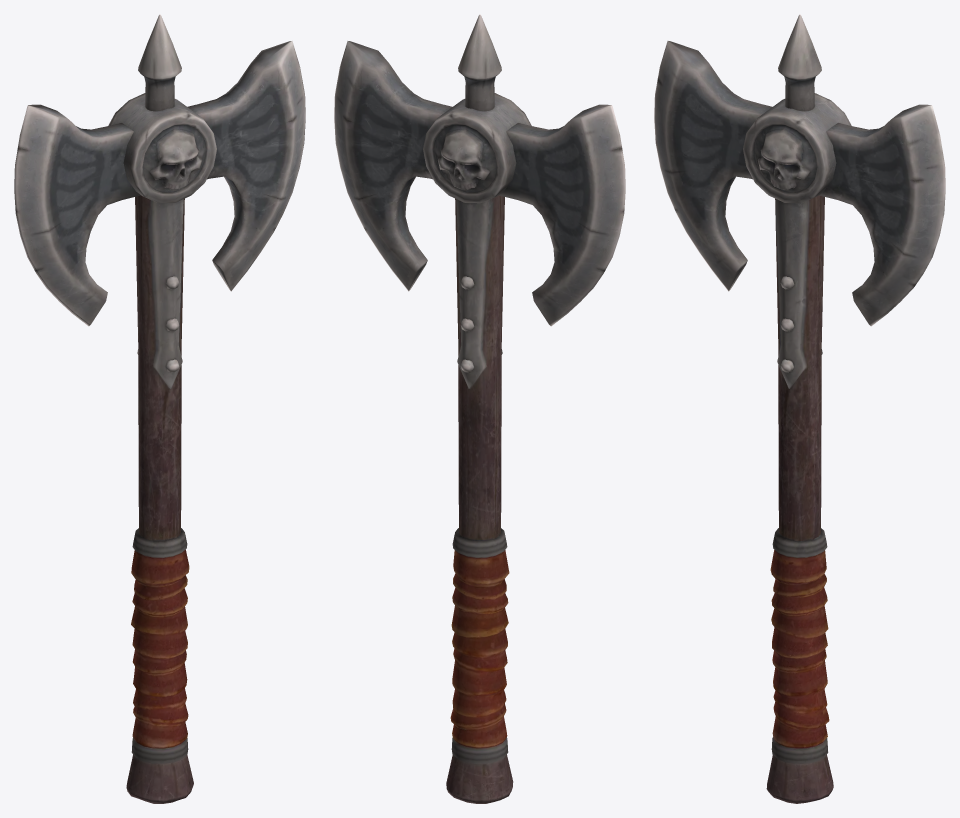
3 renders of one model, left to right at view 1: azimuth 30°, elevation 25°; view 2: azimuth 150°, elevation 25°; view 3: azimuth 330°, elevation 25°, orthographic.
Parts seen in each view (by area): view 1: SM_Club_UnbrokenZombieAxe_1H_01_LOD0; view 2: SM_Club_UnbrokenZombieAxe_1H_01_LOD0; view 3: SM_Club_UnbrokenZombieAxe_1H_01_LOD0.
Part boxes in pixels (left/top/right/bottom): SM_Club_UnbrokenZombieAxe_1H_01_LOD0: left=14, top=14, right=305, bottom=803; SM_Club_UnbrokenZombieAxe_1H_01_LOD0: left=334, top=14, right=625, bottom=803; SM_Club_UnbrokenZombieAxe_1H_01_LOD0: left=654, top=14, right=945, bottom=803.
Bounding box in the file's own units: 0.3575 × 0.915 × 0.1005.
Materials: 1 (1 with a texture image).
